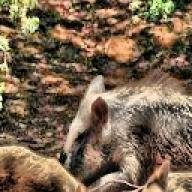boar: (60, 70, 192, 192), (0, 142, 92, 192), (129, 159, 192, 192)
